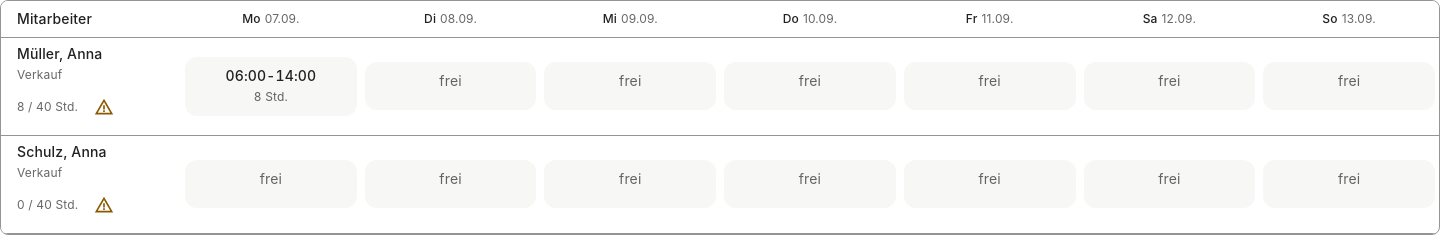
ScheduleTable › shows the Soll-deviation tooltip on hover from tablet width up, and hides it again on unhover (N20)
This screenshot has width=1440, height=252.
Hover over the button named "Abweichung von Soll anzeigen" next to "8 / 40 Std." at point(104, 107), box left=82, top=85, right=126, bottom=129
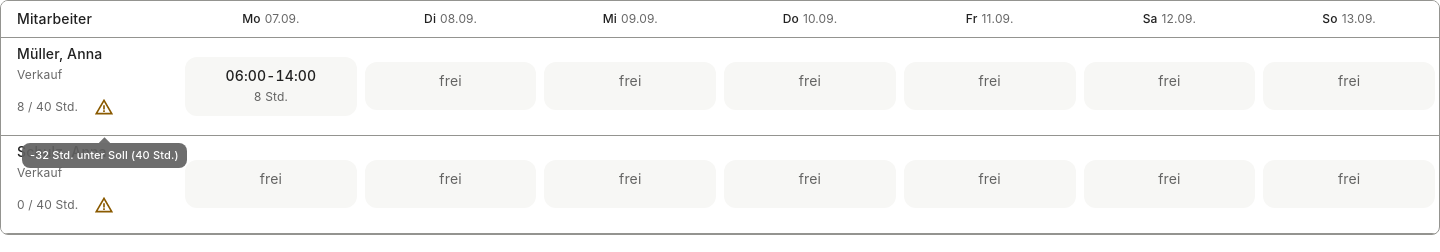
Check: the text "-32 Std. unter Soll (40 Std.)" is shown, box left=22, top=143, right=187, bottom=168
Move the pointer off the button named "Abweichung von Soll anzeigen" next to "8 / 40 Std.", box left=82, top=85, right=126, bottom=129
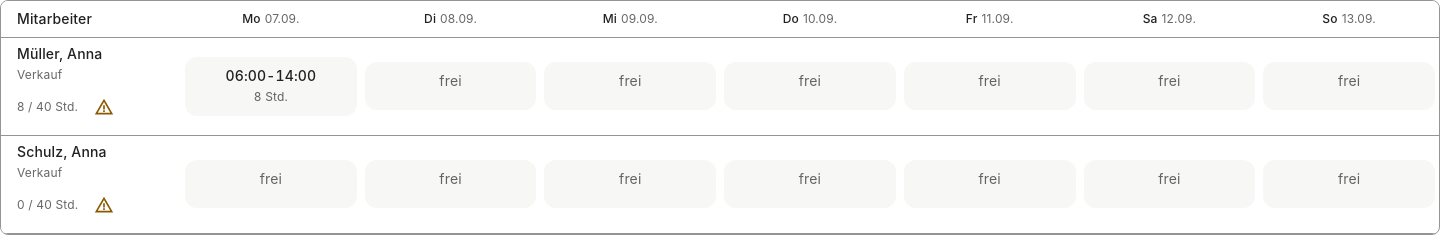
Check: the text "Std. unter Soll" is gone
